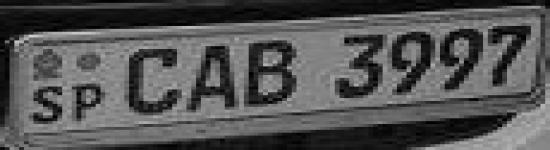3: (329, 30, 388, 103)
7: (486, 18, 536, 88)
9: (387, 26, 436, 99), (435, 25, 486, 94)
A: (185, 39, 241, 113)
B: (240, 37, 305, 108)
C: (121, 46, 184, 116)
N: (69, 84, 108, 125)
S: (30, 84, 69, 126)
